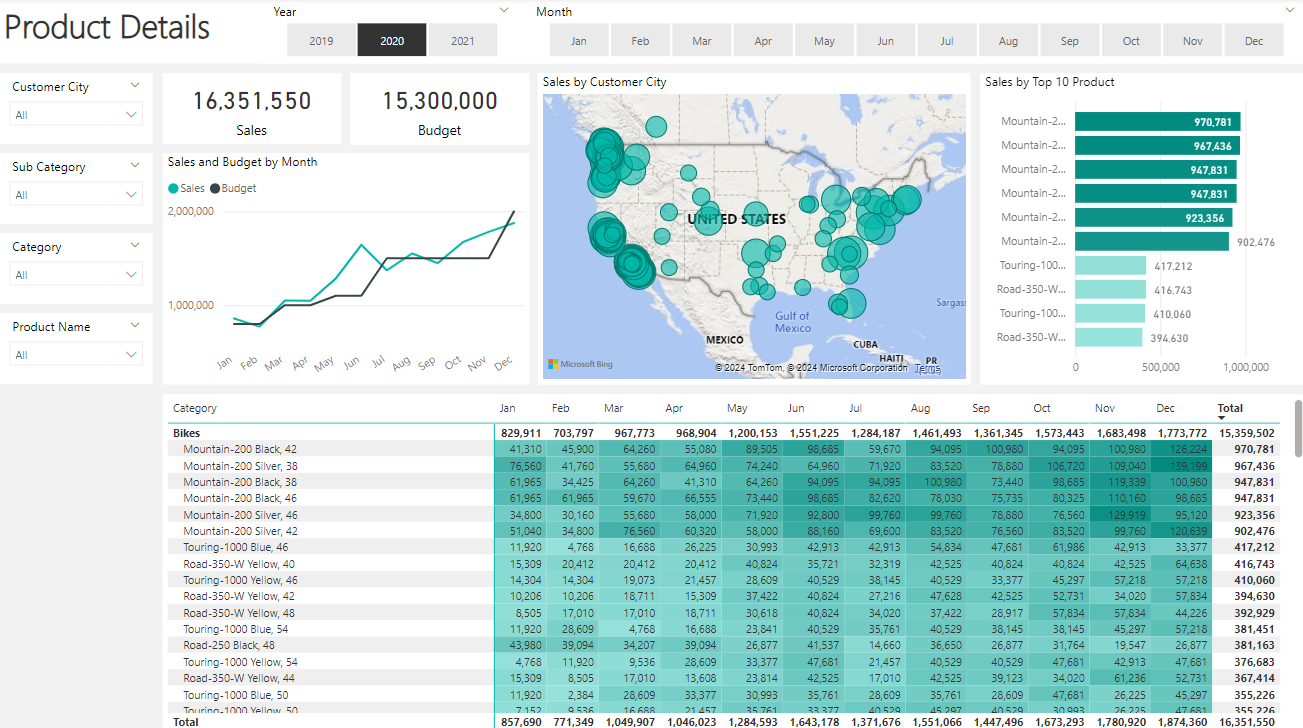

Layout of this report page (visuals, bound fields, positions):
{"tool":"powerbi","page":{"name":"Product Details","canvas":[1280,720],"ordinal":2},"visuals":[{"type":"textbox","box":[0,0,1280,64],"z":0},{"type":"slicer","fields":{"Values":["DIM_Calendar.Year"]},"box":[256,0,256,64],"z":1000},{"type":"slicer","fields":{"Values":["DIM_Calendar.MonthShort"]},"box":[512,0,768,64],"z":2000},{"type":"lineChart","fields":{"Category":["DIM_Calendar.MonthShort"],"Y":["Analysis Metrics.Sales","Analysis Metrics.Budget"]},"box":[159.8,151.8,358.7,226.4],"z":7000},{"type":"card","fields":{"Values":["Analysis Metrics.Sales"]},"box":[160.7,72.8,174,69.2],"z":8000},{"type":"map","fields":{"Category":["DIM_Customers.Customer City"],"Size":["Analysis Metrics.Sales"]},"box":[527.3,72.8,423.5,304.5],"z":9000},{"type":"card","fields":{"Values":["Analysis Metrics.Budget"]},"box":[343.6,72.8,174.9,70.1],"z":10000},{"type":"pivotTable","fields":{"Rows":["DIM_Products.Product Category","DIM_Products.Product Name"],"Columns":["DIM_Calendar.MonthShort"],"Values":["Analysis Metrics.Sales"]},"box":[159.8,387.1,1120.4,332.9],"z":11000},{"type":"clusteredBarChart","title":"Sales by Top 10 Product","fields":{"Category":["DIM_Products.Product Name"],"Y":["Analysis Metrics.Sales"]},"box":[959.7,72.8,320.5,304.5],"z":12000},{"type":"image","title":"Settings","box":[10,656,57,50],"z":13000}]}

Visuals, with their boxes in screenshot pixels (x1, y1, x2, y2), scaled from the page's 1280x720 canvas onto the 1303x728 screenshot:
textbox: crop(0, 0, 1302, 65)
slicer - DIM_Calendar.Year: crop(261, 0, 521, 65)
slicer - DIM_Calendar.MonthShort: crop(521, 0, 1302, 65)
lineChart - DIM_Calendar.MonthShort x Analysis Metrics.Sales: crop(163, 153, 528, 382)
card - Analysis Metrics.Sales: crop(164, 74, 341, 144)
map - DIM_Customers.Customer City x Analysis Metrics.Sales: crop(537, 74, 968, 381)
card - Analysis Metrics.Budget: crop(350, 74, 528, 144)
pivotTable - DIM_Products.Product Category x DIM_Products.Product Name: crop(163, 391, 1302, 727)
"Sales by Top 10 Product" clusteredBarChart: crop(977, 74, 1302, 381)
"Settings" image: crop(10, 663, 68, 714)
